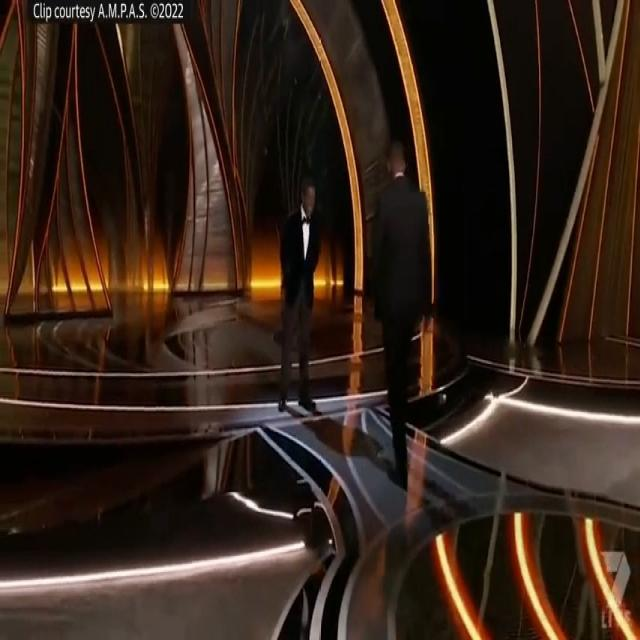non-fight: (366, 142, 439, 498), (274, 166, 326, 422)
